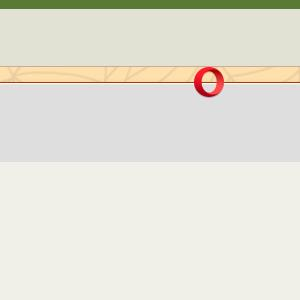opera: (193, 67, 224, 98)
